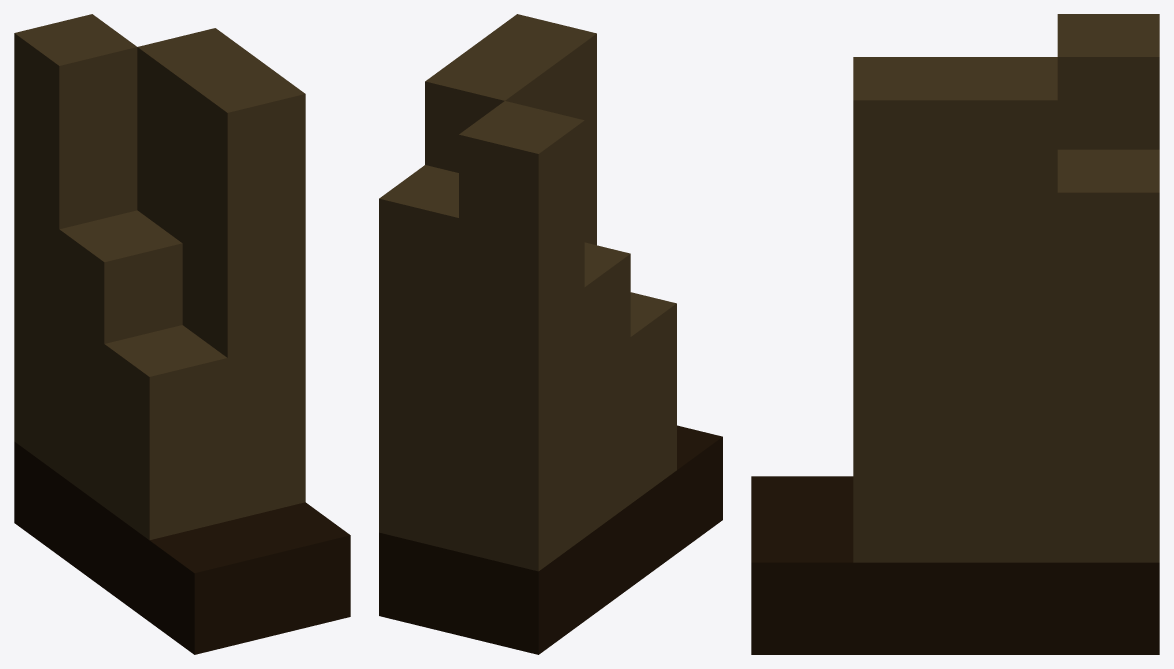
The model's file is Bear_backlegL.fbx.
The picture shows the model from 3 angles, left to right: view 1: azimuth 30°, elevation 25°; view 2: azimuth 150°, elevation 25°; view 3: azimuth 270°, elevation 25°; orthographic projection. The views are drawn at different scales.
Parts seen in each view (by area): view 1: BLegL; view 2: BLegL; view 3: BLegL.
Boxes of the visible parts, x1,y1,x2,y2 form: BLegL: (14, 14, 350, 654); BLegL: (379, 14, 722, 654); BLegL: (751, 14, 1159, 654).
Bounding box in the file's own units: 20 × 60 × 40.
